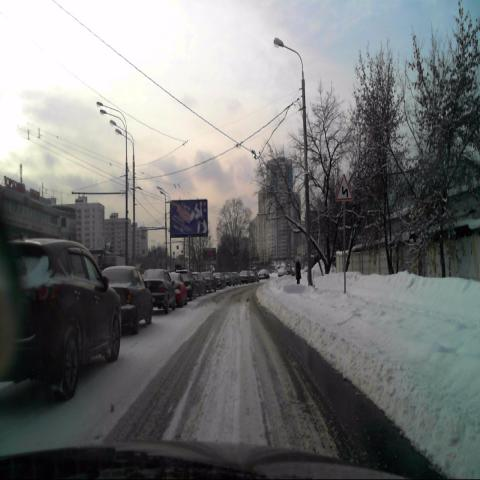1_12_2: (336, 174, 353, 201)
